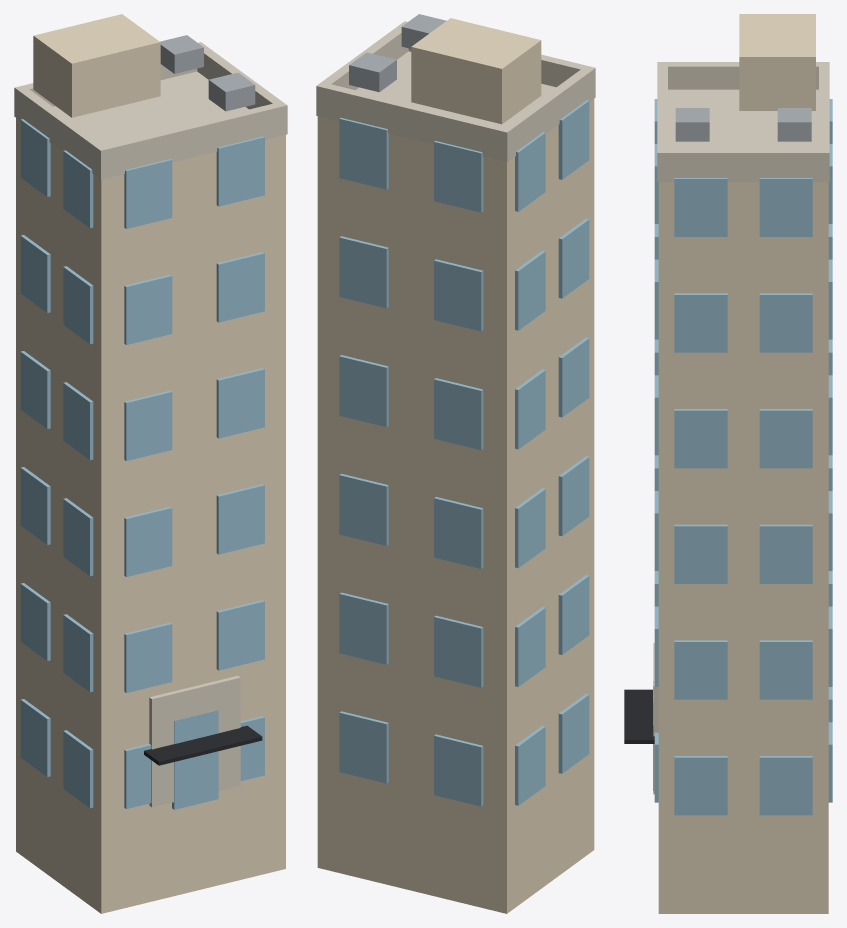
File: building.office-tower.glb
3 views of the same model, side by side, from view 1: azimuth 30°, elevation 25°; view 2: azimuth 150°, elevation 25°; view 3: azimuth 270°, elevation 25° (orthographic). The views are drawn at different scales.
Visible parts, largest first — view 1: building.office-tower; view 2: building.office-tower; view 3: building.office-tower.
Boxes of the visible parts, x1,y1,x2,y2 form: building.office-tower: [14, 14, 287, 913]; building.office-tower: [316, 14, 595, 913]; building.office-tower: [624, 14, 832, 913].
Bounding box in the file's own units: 5.18 × 21.15 × 4.89.
